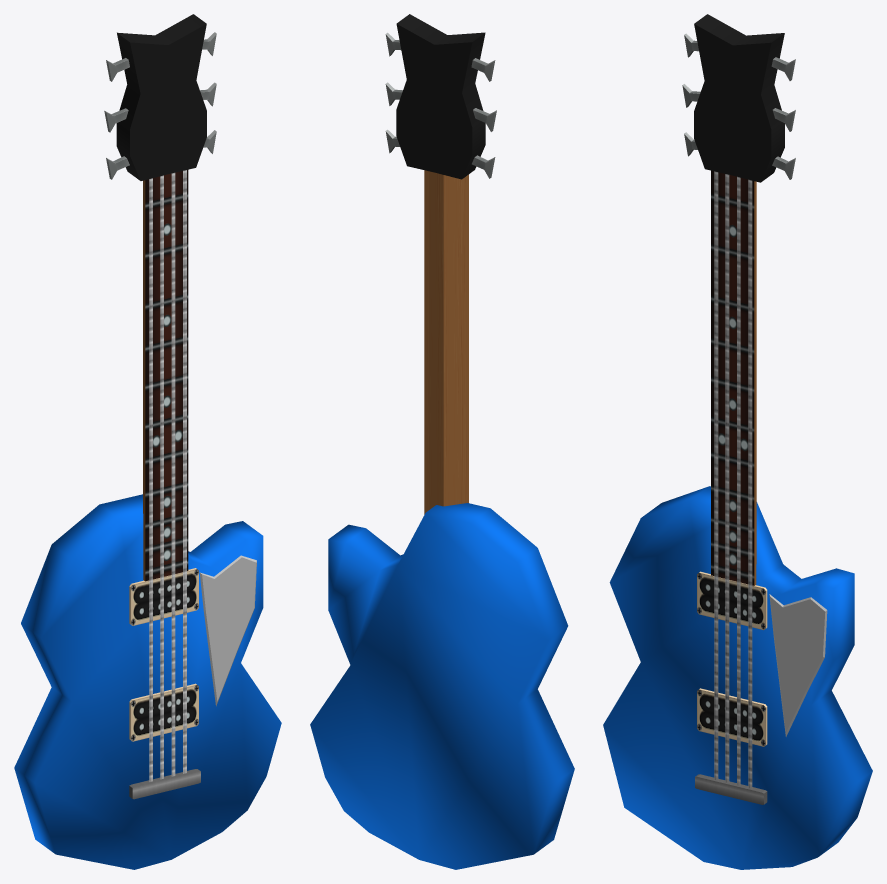
The model's file is Guitar_H.FBX.
3 views of the same model, side by side, from view 1: azimuth 30°, elevation 25°; view 2: azimuth 150°, elevation 25°; view 3: azimuth 330°, elevation 25° (orthographic).
Visible parts, largest first — view 1: Guitar; view 2: Guitar; view 3: Guitar.
Part boxes in pixels (x1,y1,x2,y2): Guitar: (14,14,281,869); Guitar: (310,14,574,869); Guitar: (603,14,872,869).
Size of the model in its own units: 64.57 by 208 by 10.83.
